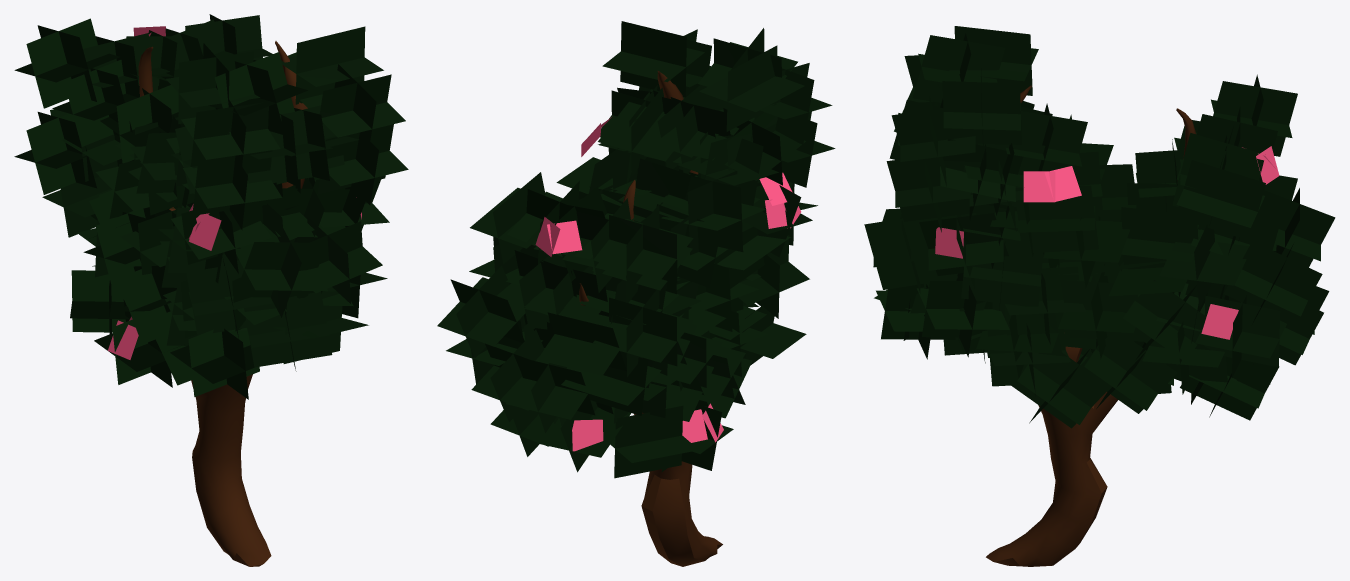
Rendered from Frangipanier_1V6_low.fbx.
The picture shows the model from 3 angles, left to right: view 1: azimuth 30°, elevation 25°; view 2: azimuth 150°, elevation 25°; view 3: azimuth 270°, elevation 25°; orthographic projection. The views are drawn at different scales.
Parts seen in each view (by area): view 1: Folliage_high, Trunk_low, Fleurs; view 2: Folliage_high, Trunk_low, Fleurs; view 3: Folliage_high, Trunk_low, Fleurs.
Boxes of the visible parts, x1,y1,x2,y2 form: Folliage_high: (14, 14, 408, 399); Trunk_low: (138, 41, 307, 566); Fleurs: (108, 26, 361, 359); Folliage_high: (437, 21, 835, 478); Trunk_low: (579, 71, 722, 566); Fleurs: (535, 116, 801, 451); Folliage_high: (864, 26, 1335, 428); Trunk_low: (986, 85, 1196, 566); Fleurs: (935, 146, 1279, 339).
Bounding box in the file's own units: 839 × 1788 × 1480.
